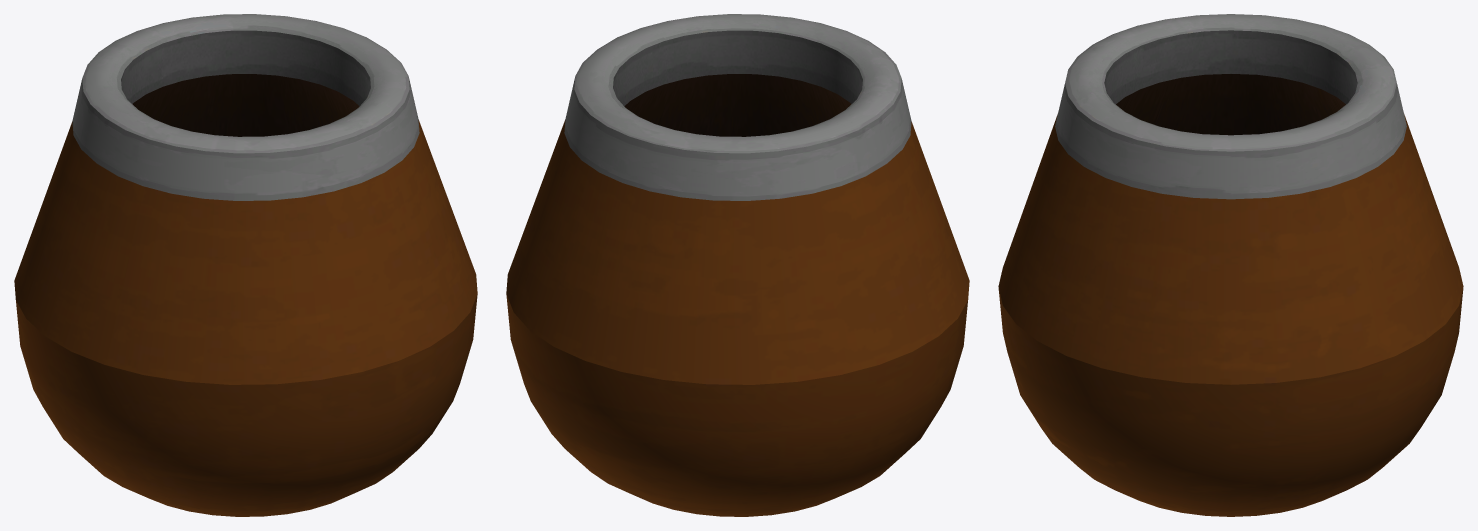
The model's file is mate01_cup.glb.
3 renders of one model, left to right at view 1: azimuth 30°, elevation 25°; view 2: azimuth 150°, elevation 25°; view 3: azimuth 270°, elevation 25°, orthographic.
Visible parts, largest first — view 1: mate01_cup; view 2: mate01_cup; view 3: mate01_cup.
Boxes of the visible parts, x1,y1,x2,y2 form: mate01_cup: (14,14,477,516); mate01_cup: (506,14,969,516); mate01_cup: (998,14,1463,516).
Size of the model in its own units: 0.1679 by 0.1597 by 0.1679.
1 material, 1 textured.
